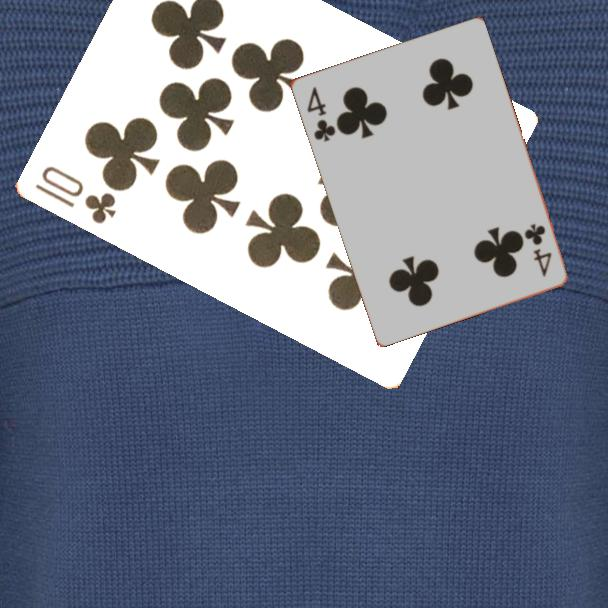c04: (303, 83, 338, 145), (521, 220, 554, 279)
c10: (31, 162, 119, 227)
